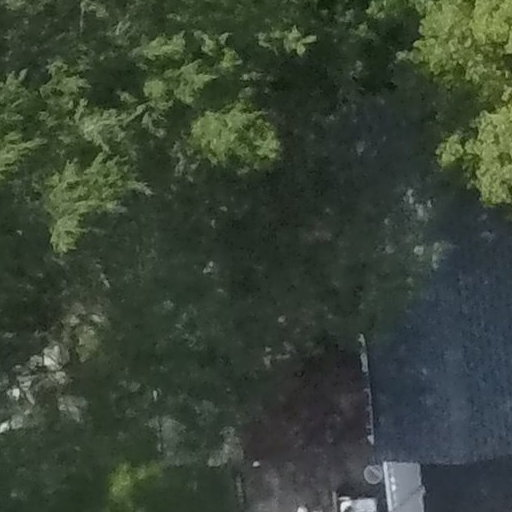container: (358, 459, 381, 484)
